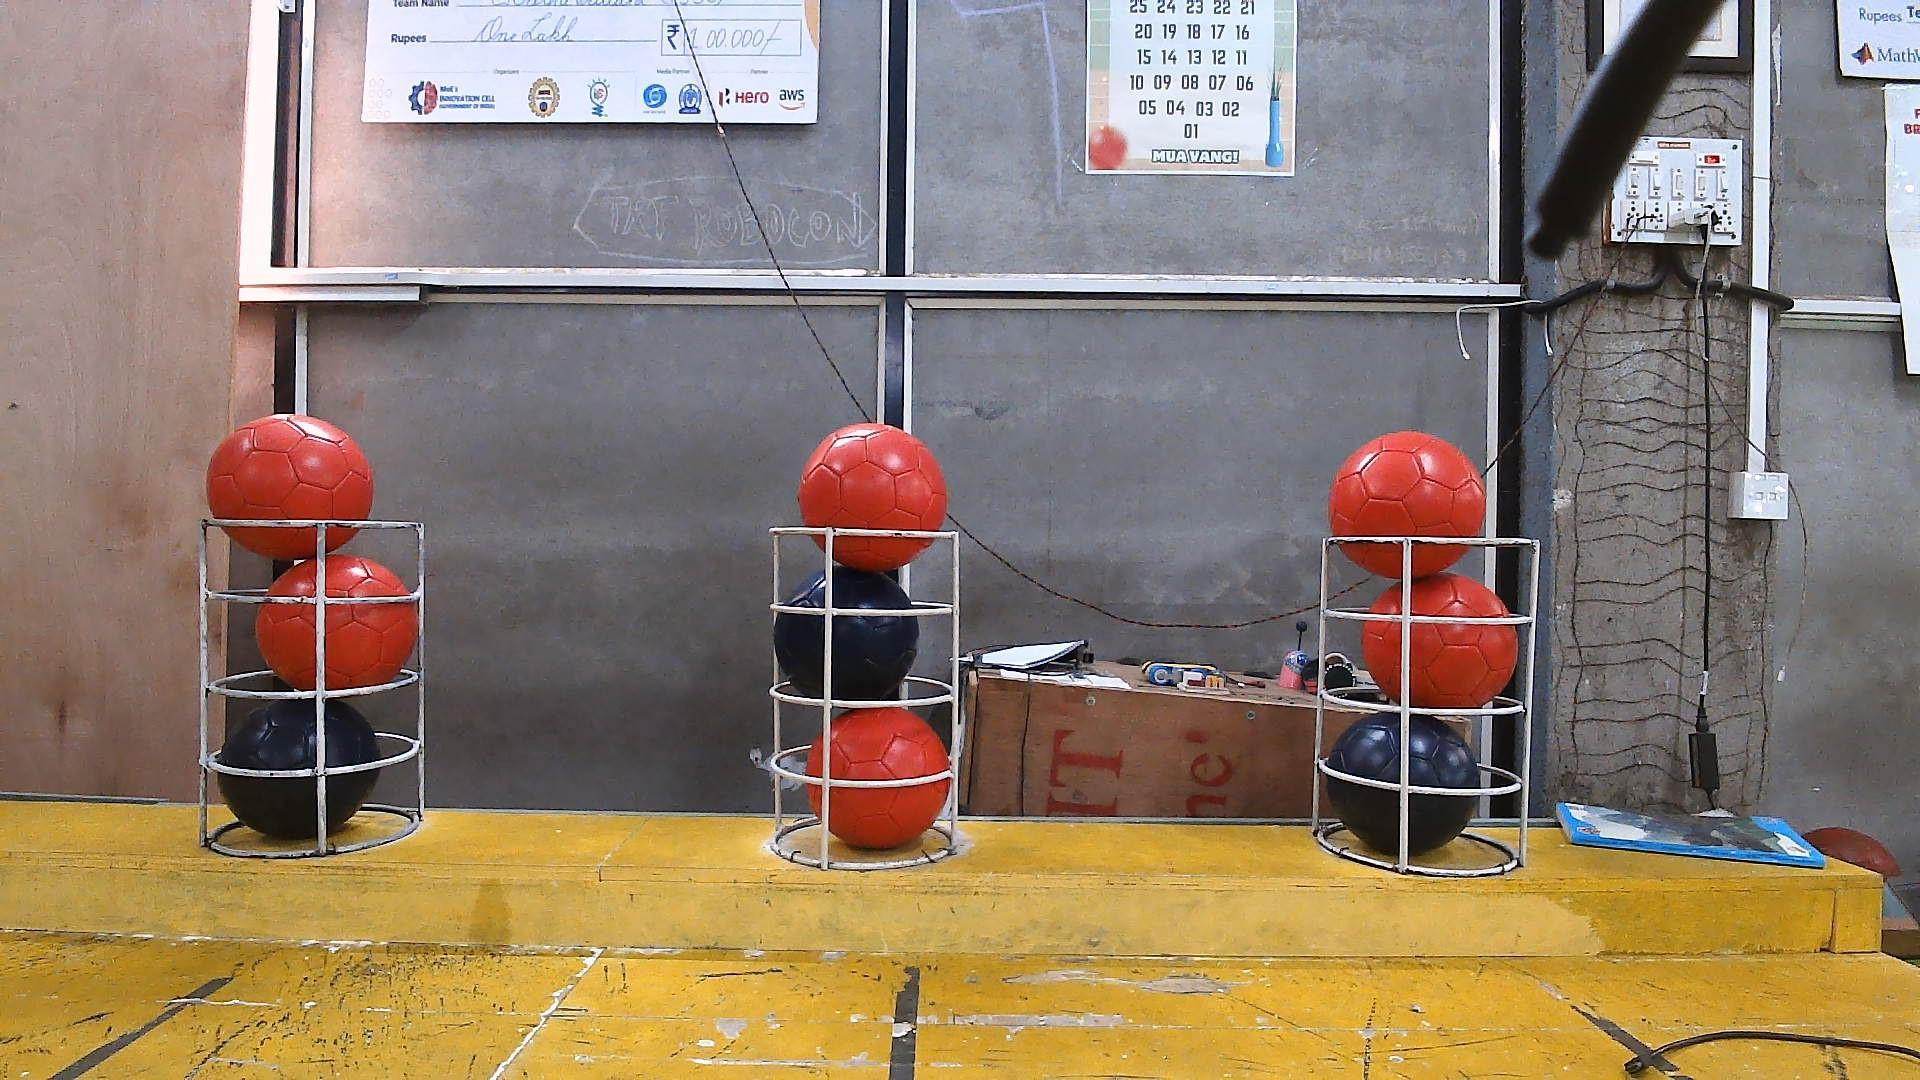dhoka: (214, 698, 382, 840), (1324, 708, 1481, 858), (773, 566, 919, 702)
laale: (206, 413, 375, 563), (1328, 431, 1485, 579), (255, 555, 419, 690), (799, 423, 948, 570), (806, 705, 952, 852), (1361, 574, 1519, 708)
